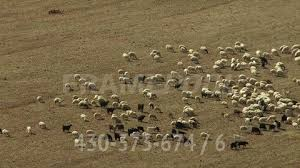sheep: (227, 138, 239, 152), (199, 43, 211, 57), (127, 48, 138, 62), (61, 122, 73, 134), (249, 123, 261, 135), (198, 130, 211, 141), (52, 97, 65, 106), (144, 124, 157, 133), (212, 62, 222, 73), (249, 69, 260, 79), (220, 99, 230, 109), (88, 81, 98, 91), (78, 112, 88, 122), (135, 103, 146, 112), (196, 64, 205, 75), (238, 138, 249, 147), (1, 127, 11, 136), (121, 75, 131, 84), (180, 95, 189, 104), (121, 50, 129, 60), (224, 45, 234, 53), (270, 48, 280, 56), (25, 124, 33, 133), (153, 54, 162, 62), (218, 50, 227, 58), (269, 68, 276, 78), (193, 94, 201, 102), (223, 112, 231, 120), (37, 121, 46, 128), (71, 131, 80, 138), (175, 61, 184, 68), (165, 43, 172, 51), (237, 125, 246, 131), (264, 83, 273, 89), (36, 94, 42, 102)
